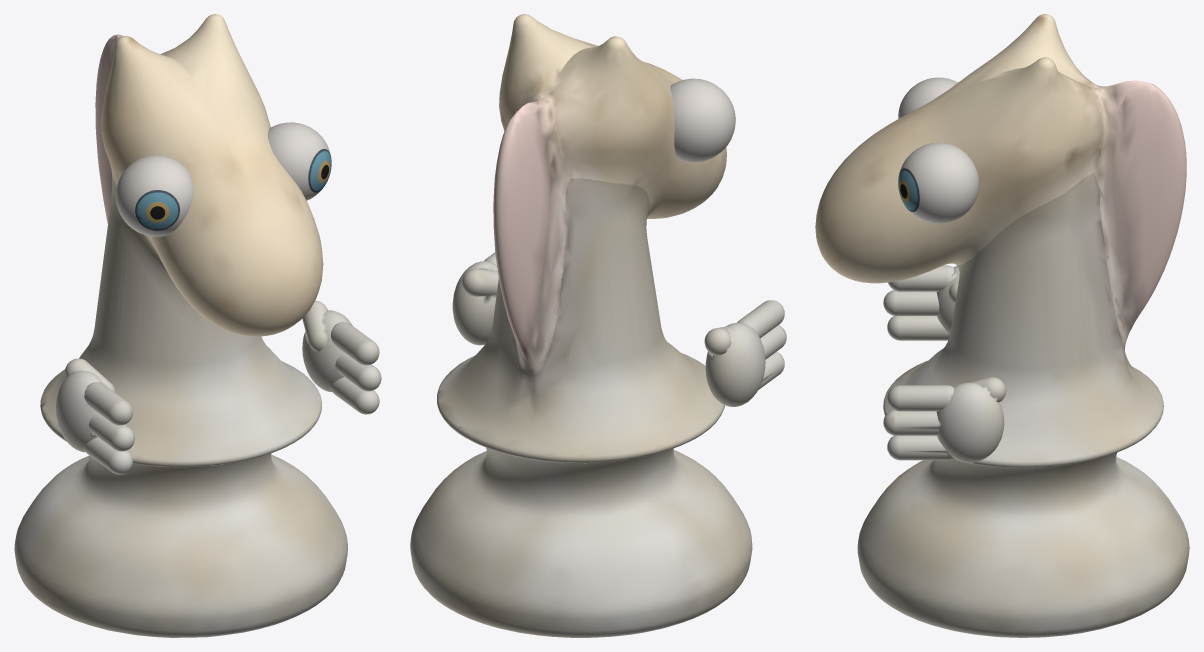
Rendered from knight-light.glb.
3 views of the same model, side by side, from view 1: azimuth 30°, elevation 25°; view 2: azimuth 150°, elevation 25°; view 3: azimuth 270°, elevation 25° (orthographic). The views are drawn at different scales.
Visible parts, largest first — view 1: body, hand, eye; view 2: body, hand, eye; view 3: body, hand, eye.
Boxes of the visible parts, <box> form: body: <box>14,14,347,637</box>; hand: <box>56,300,381,474</box>; eye: <box>116,122,331,236</box>; body: <box>410,14,752,637</box>; hand: <box>452,252,786,406</box>; eye: <box>670,78,735,162</box>; body: <box>815,14,1189,637</box>; hand: <box>883,265,1006,462</box>; eye: <box>898,77,979,223</box>.
Bounding box in the file's own units: 2.19 × 3.88 × 2.43.
